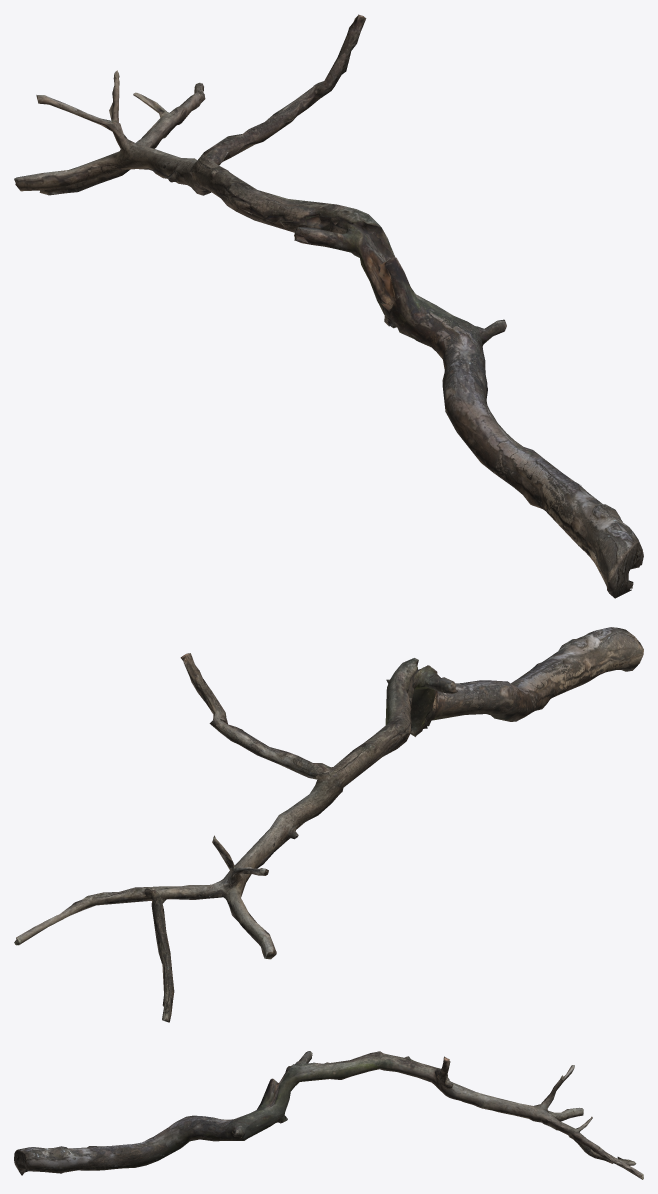
The model's file is dry_branches_medium_01_a.glb.
The picture shows the model from 3 angles, top to bottom: view 1: azimuth 30°, elevation 25°; view 2: azimuth 150°, elevation 25°; view 3: azimuth 270°, elevation 25°; orthographic projection. The views are drawn at different scales.
Visible parts, largest first — view 1: dry_branches_medium_01_a; view 2: dry_branches_medium_01_a; view 3: dry_branches_medium_01_a.
Boxes of the visible parts, x1,y1,x2,y2 form: dry_branches_medium_01_a: [14, 14, 643, 598]; dry_branches_medium_01_a: [14, 627, 643, 1022]; dry_branches_medium_01_a: [14, 1051, 643, 1179].
Size of the model in its own units: 0.3237 by 0.3403 by 1.3.
1 material, 1 textured.
